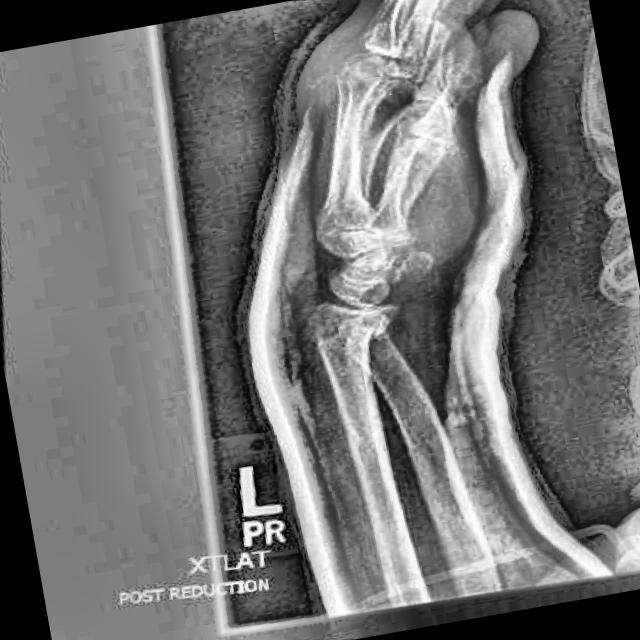wrist positive: (299, 299, 412, 361)
